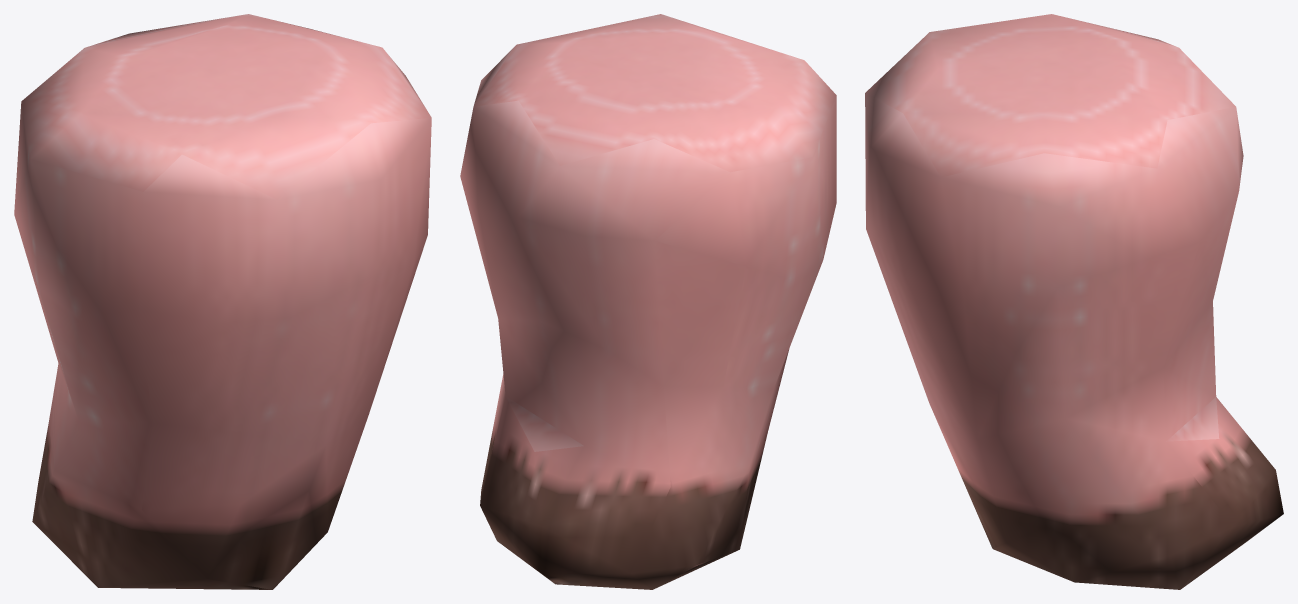
3 views of the same model, side by side, from view 1: azimuth 30°, elevation 25°; view 2: azimuth 150°, elevation 25°; view 3: azimuth 270°, elevation 25° (orthographic). The views are drawn at different scales.
Bounding box in the file's own units: 0.7682 × 0.9951 × 0.7964.
Materials: 1 (1 with a texture image).
